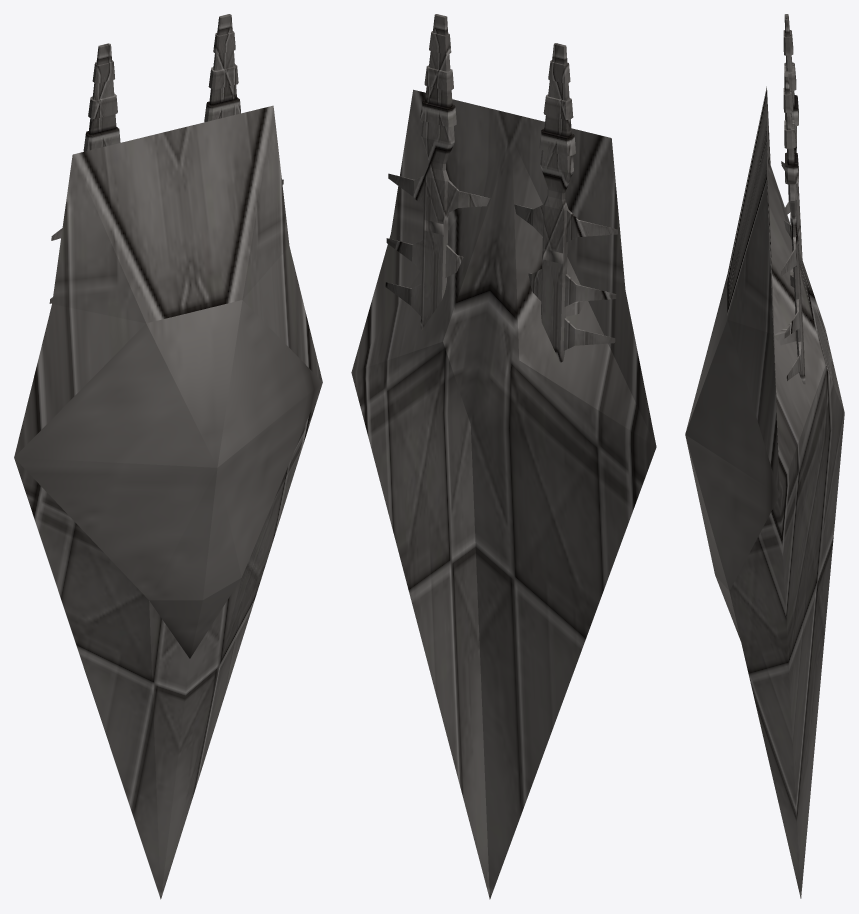
Rendered from wing_open.fbx.
The picture shows the model from 3 angles, left to right: view 1: azimuth 30°, elevation 25°; view 2: azimuth 150°, elevation 25°; view 3: azimuth 270°, elevation 25°; orthographic projection. The views are drawn at different scales.
Parts seen in each view (by area): view 1: F_Wing, polySurface3233; view 2: F_Wing; view 3: F_Wing, polySurface3233.
Part boxes in pixels (bbox=[...]): F_Wing: bbox=[14, 14, 322, 899]; polySurface3233: bbox=[14, 300, 322, 658]; F_Wing: bbox=[351, 14, 656, 899]; F_Wing: bbox=[727, 14, 844, 898]; polySurface3233: bbox=[685, 275, 779, 640].
Bounding box in the file's own units: 3.92 × 10.62 × 1.8.
Materials: 2 (1 with a texture image).
